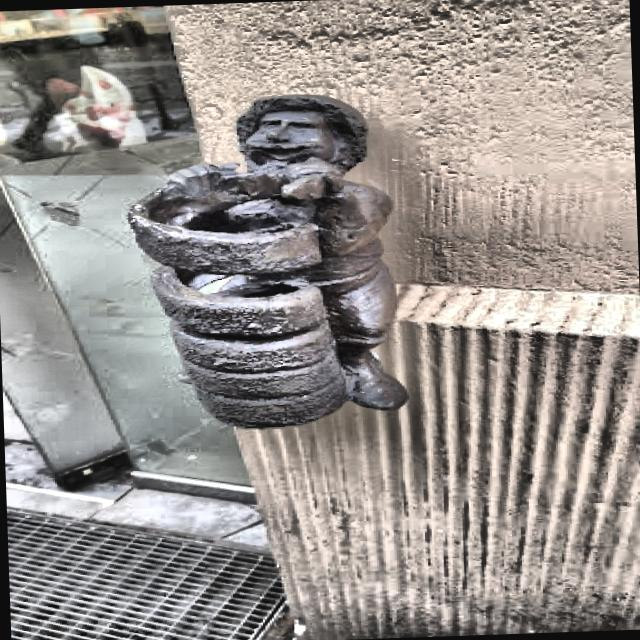Czimnejek: (105, 87, 422, 440)
